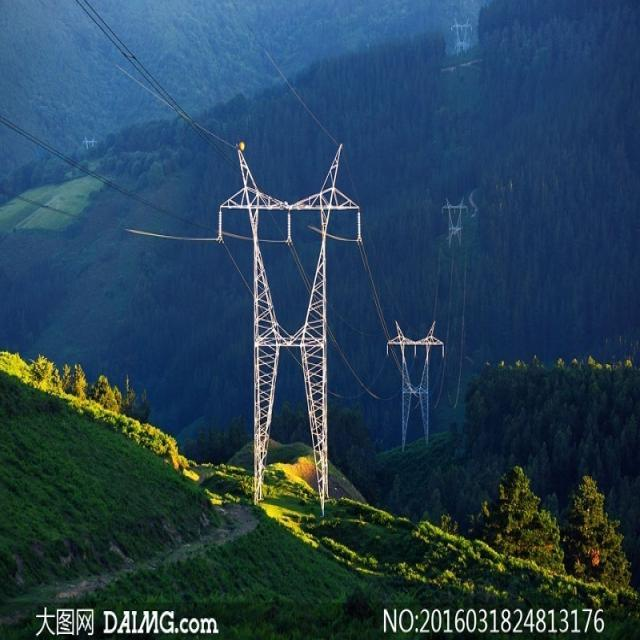non-critical vegetation: (214, 133, 354, 524), (382, 311, 444, 448)
